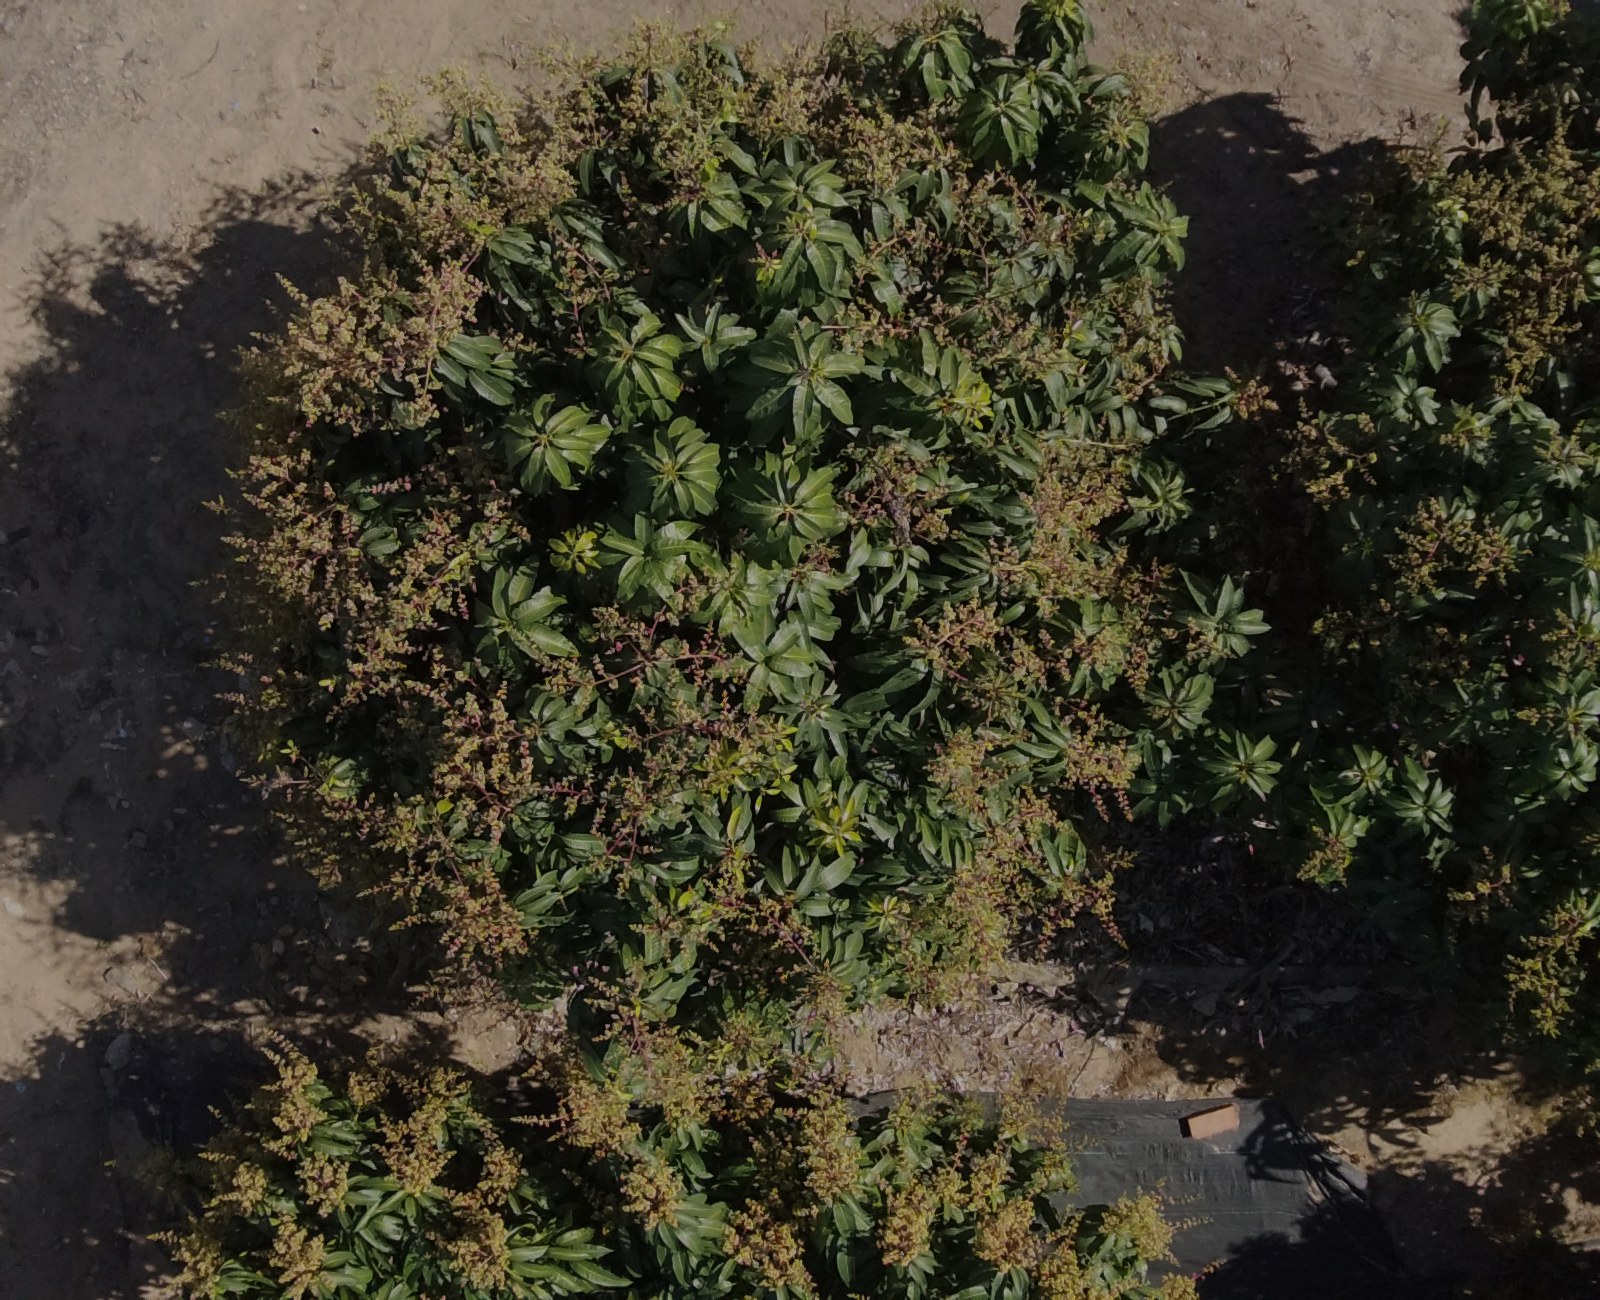flowers: (247, 224, 543, 952), (1420, 60, 1599, 393), (551, 606, 788, 836), (915, 462, 1136, 696), (663, 1037, 858, 1299), (910, 787, 1114, 991), (866, 218, 1122, 378), (884, 1126, 1085, 1299), (838, 107, 1083, 247), (580, 49, 845, 174), (367, 92, 588, 237), (381, 1067, 519, 1288), (515, 1067, 681, 1228), (689, 846, 820, 1024), (153, 1125, 265, 1299), (1506, 887, 1599, 1035), (1385, 495, 1514, 596), (582, 944, 678, 1072), (842, 439, 949, 547), (1280, 397, 1376, 507), (929, 719, 1010, 830), (1064, 700, 1138, 820), (260, 1048, 324, 1158), (1112, 283, 1167, 398), (632, 897, 704, 975), (1101, 1193, 1173, 1260), (269, 1218, 324, 1299), (1298, 826, 1355, 883), (299, 1153, 348, 1212), (833, 302, 872, 352), (346, 1063, 387, 1108), (1156, 1273, 1197, 1299)
